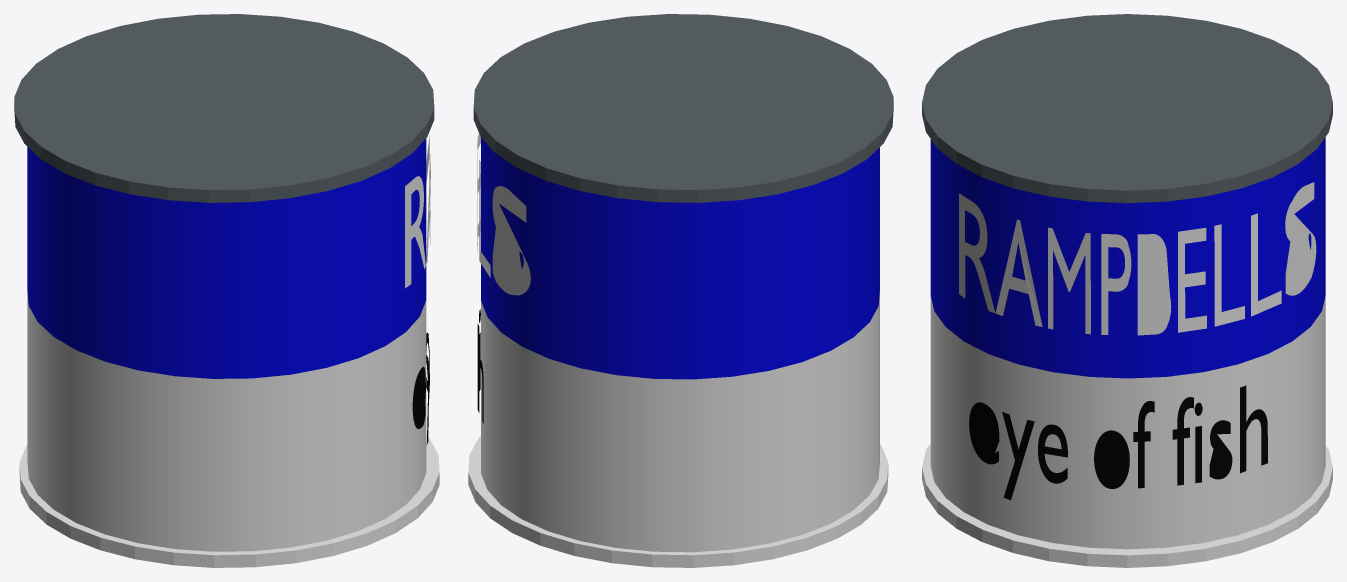
File: soup4.fbx
3 views of the same model, side by side, from view 1: azimuth 30°, elevation 25°; view 2: azimuth 150°, elevation 25°; view 3: azimuth 270°, elevation 25° (orthographic).
Parts seen in each view (by area): view 1: Cylinder, Cylinder.001, Cylinder.002, Text.003, Text.002; view 2: Cylinder, Cylinder.001, Cylinder.002, Text.003; view 3: Cylinder, Cylinder.001, Text.003, Text.002, Cylinder.002.
Part boxes in pixels (left/top/right/bottom): Cylinder: left=27, top=138, right=426, bottom=551; Cylinder.001: left=14, top=14, right=434, bottom=202; Cylinder.002: left=19, top=435, right=439, bottom=567; Text.003: left=405, top=135, right=430, bottom=288; Text.002: left=412, top=332, right=429, bottom=444; Cylinder: left=481, top=138, right=879, bottom=552; Cylinder.001: left=473, top=14, right=893, bottom=202; Cylinder.002: left=468, top=436, right=888, bottom=567; Text.003: left=477, top=134, right=530, bottom=295; Cylinder: left=930, top=137, right=1325, bottom=549; Cylinder.001: left=922, top=14, right=1332, bottom=203; Text.003: left=959, top=182, right=1316, bottom=335; Text.002: left=969, top=385, right=1267, bottom=500; Cylinder.002: left=922, top=443, right=1332, bottom=567.
Bounding box in the file's own units: 215 × 209 × 208.
